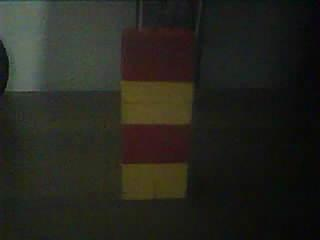lego: (120, 24, 194, 200)
